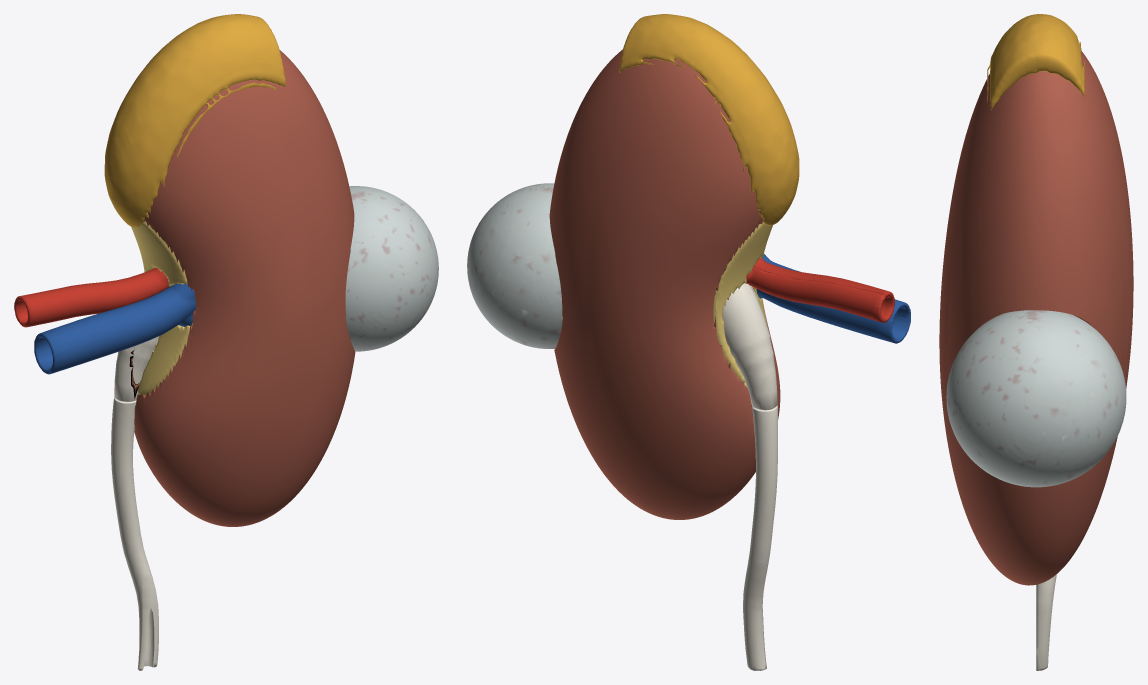
File: kidney_bosniak_2f_coronal.glb
3 renders of one model, left to right at view 1: azimuth 30°, elevation 25°; view 2: azimuth 150°, elevation 25°; view 3: azimuth 270°, elevation 25°, orthographic. The views are drawn at different scales.
Parts seen in each view (by area): view 1: anterior_half, ureter, adrenal_gland, renal_pelvis; view 2: renal_cortex, adrenal_gland, cyst, anterior_half, ureter, renal_pelvis, renal_artery, renal_sinus; view 3: anterior_half, renal_cortex, cyst, adrenal_gland, ureter.
Part boxes in pixels (<box>): anterior_half: <box>20,18,438,526</box>; ureter: <box>111,397,158,670</box>; adrenal_gland: <box>104,14,263,224</box>; renal_pelvis: <box>114,346,139,401</box>; renal_cortex: <box>549,49,763,519</box>; adrenal_gland: <box>619,15,795,225</box>; cyst: <box>467,189,562,348</box>; anterior_half: <box>506,14,910,511</box>; ureter: <box>743,405,777,670</box>; renal_pelvis: <box>722,283,777,410</box>; renal_artery: <box>744,267,886,322</box>; renal_sinus: <box>713,222,768,387</box>; anterior_half: <box>939,14,1036,585</box>; renal_cortex: <box>1036,51,1133,584</box>; cyst: <box>1036,310,1126,487</box>; adrenal_gland: <box>1036,14,1084,96</box>; ureter: <box>1036,574,1056,670</box>.
Size of the model in its own units: 9.65 by 14.23 by 3.66.
1 material, 1 textured.
